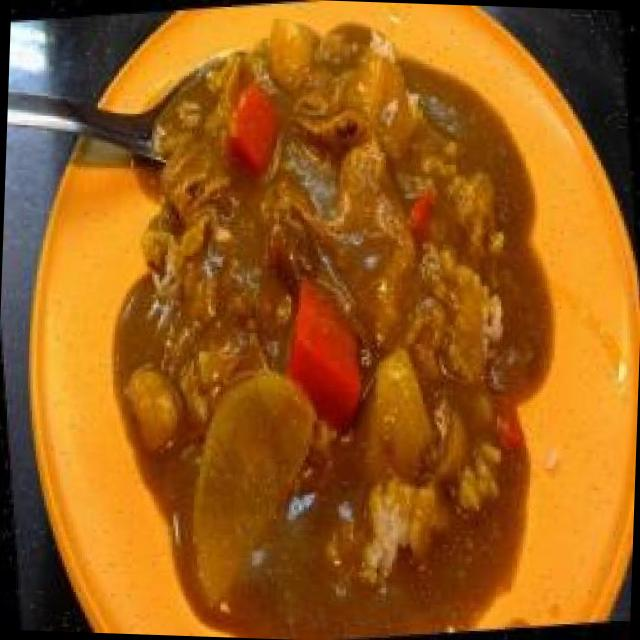curry: (76, 0, 583, 640)
